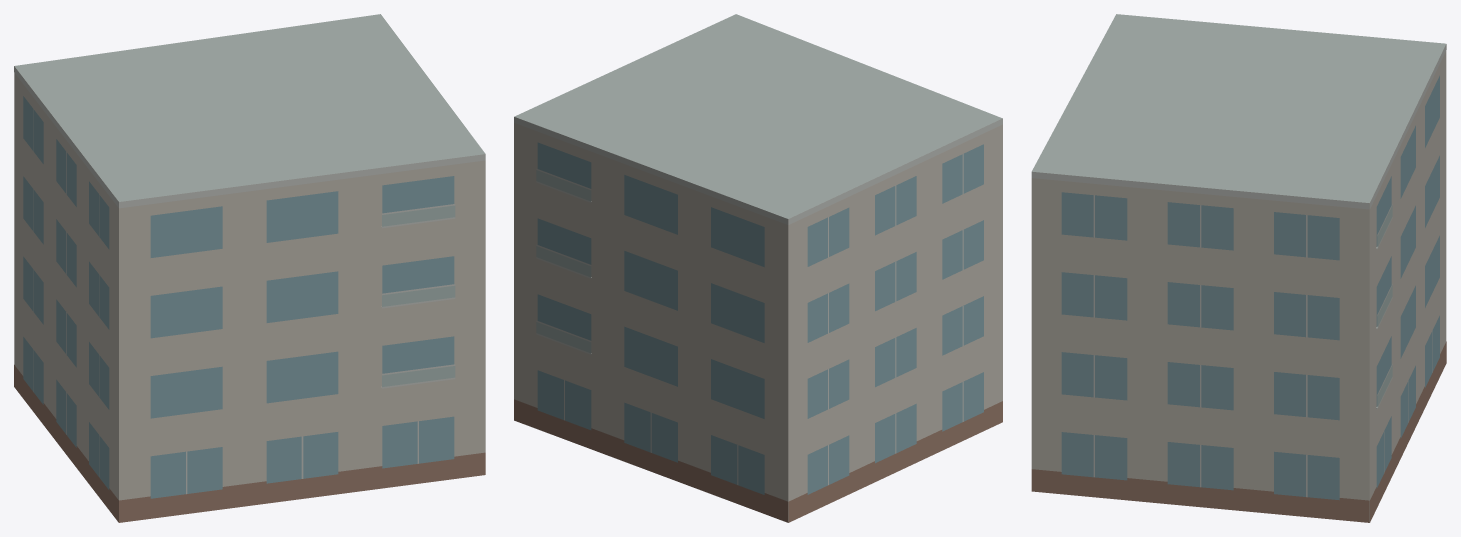
The model's file is survey-upis-32861473.glb.
3 renders of one model, left to right at view 1: azimuth 30°, elevation 25°; view 2: azimuth 150°, elevation 25°; view 3: azimuth 270°, elevation 25°, orthographic. The views are drawn at different scales.
Visible parts, largest first — view 1: survey-upis-32861473.tmp; view 2: survey-upis-32861473.tmp; view 3: survey-upis-32861473.tmp.
Part boxes in pixels (x1,y1,x2,y2): survey-upis-32861473.tmp: (14,14,485,522); survey-upis-32861473.tmp: (514,14,1002,522); survey-upis-32861473.tmp: (1031,14,1446,522).
Size of the model in its own units: 15.61 by 12.29 by 14.47.
